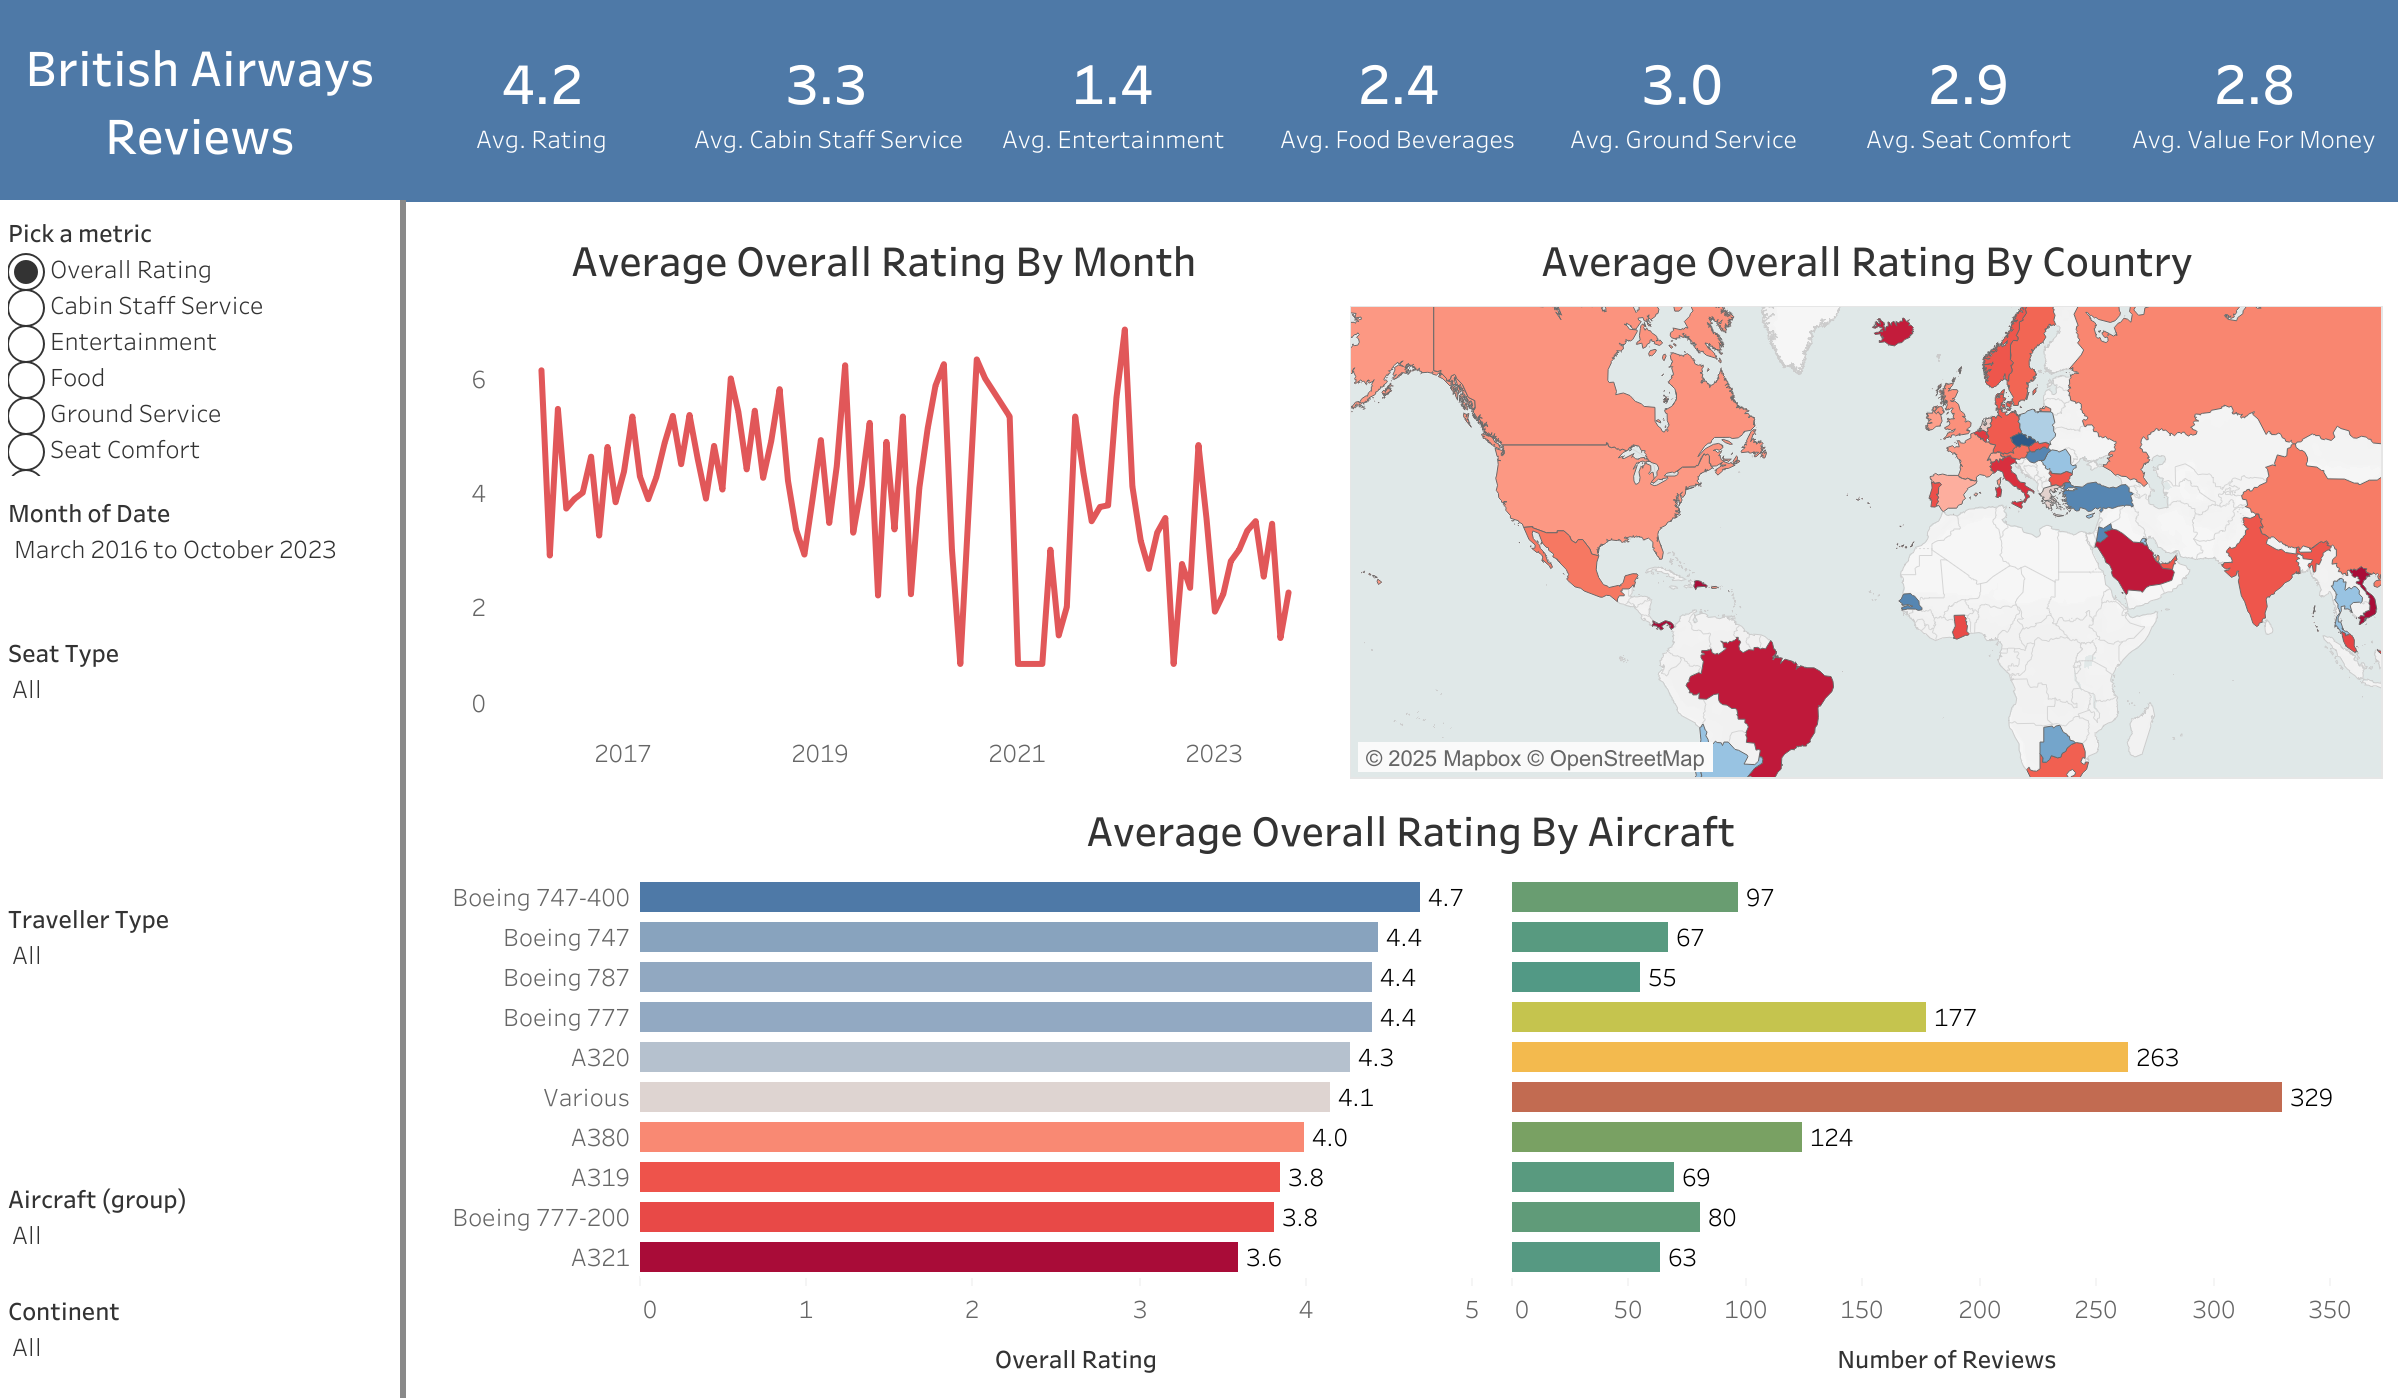

The dashboard page shown, as its layout file describes it:
{"tool":"tableau","page":{"name":"Dashboard 1","canvas":[1200,700],"ordinal":0},"visuals":[{"type":"text","box":[0,0,200,100]},{"type":"worksheet","title":"summary","mark":"Automatic","box":[200,0,999,100]},{"type":"blank","box":[200,100,3,600]},{"type":"parameter","param":"[Parameters].[Parameter 1]","box":[0,102,200,149]},{"type":"worksheet","title":"Month","mark":"Automatic","rows":["Calculation_467529988195790848"],"cols":["date"],"box":[220,110,444,280]},{"type":"worksheet","title":"Map","mark":"Automatic","box":[675,110,517,280]},{"type":"filter","title":"Map","param":"[federated.1pcnwoo1g4pvph10ksfk00hadk1e].[tmn:date:qk]","box":[0,251,200,69]},{"type":"filter","title":"Map","param":"[federated.1pcnwoo1g4pvph10ksfk00hadk1e].[none:seat_type:nk]","box":[0,320,200,127]},{"type":"worksheet","title":"Aircraft","mark":"Automatic","cols":["Calculation_467529988195790848","ba_reviews.csv_693B5AD7C0CC43C9AB5E245D8FB67E5F"],"box":[220,395,971,300]},{"type":"filter","title":"Map","param":"[federated.1pcnwoo1g4pvph10ksfk00hadk1e].[none:traveller_type:nk]","box":[0,447,200,146]},{"type":"filter","title":"Map","param":"[federated.1pcnwoo1g4pvph10ksfk00hadk1e].[Aircraft (group)]","box":[0,593,200,52]},{"type":"filter","title":"Map","param":"[federated.1pcnwoo1g4pvph10ksfk00hadk1e].[none:Continent:nk]","box":[0,645,200,52]}]}

Visuals, with their boxes in screenshot pixels (x1, y1, x2, y2), scaled from the page's 1200x700 canvas onto the 2398x1398 screenshot:
text: box=[0, 0, 400, 200]
"summary" worksheet: box=[400, 0, 2396, 200]
blank: box=[400, 200, 406, 1397]
parameter: box=[0, 204, 400, 501]
"Month" worksheet: box=[440, 220, 1327, 779]
"Map" worksheet: box=[1349, 220, 2382, 779]
"Map" filter: box=[0, 501, 400, 639]
"Map" filter: box=[0, 639, 400, 893]
"Aircraft" worksheet: box=[440, 789, 2380, 1388]
"Map" filter: box=[0, 893, 400, 1184]
"Map" filter: box=[0, 1184, 400, 1288]
"Map" filter: box=[0, 1288, 400, 1392]
